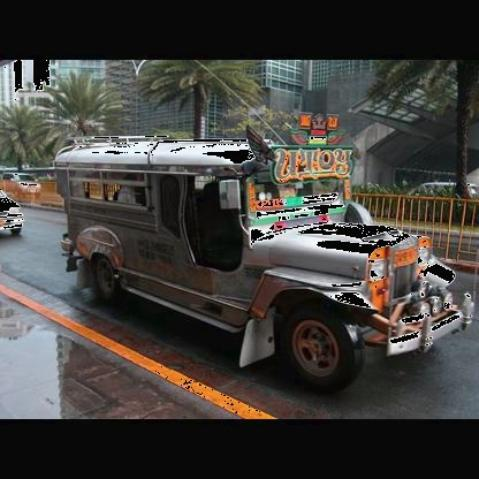jeepney: (54, 119, 479, 378)
